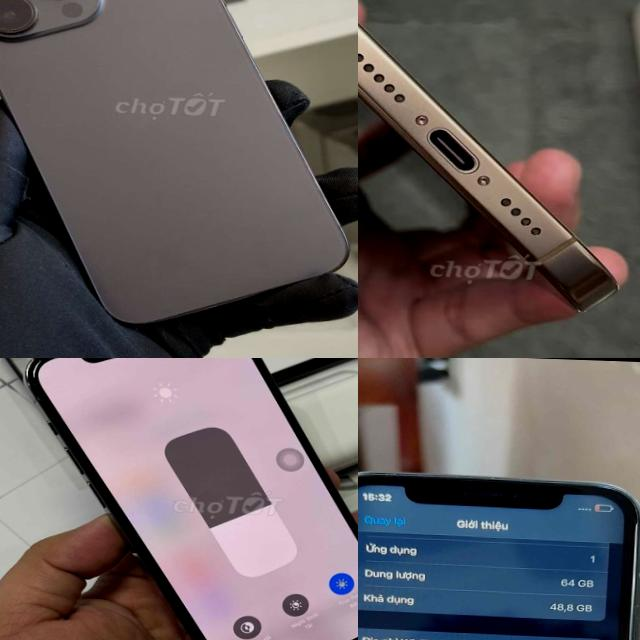gen_12_13: (12, 358, 358, 640)
gen_15: (0, 0, 358, 337)
gen_16: (358, 0, 638, 307)
gen_x_xs: (358, 464, 640, 640)
scratch: (614, 524, 640, 640)
